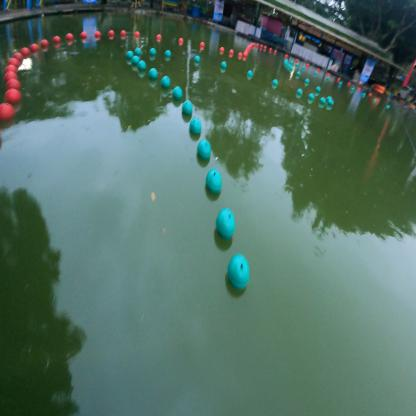green_buoy: (228, 256, 249, 291), (216, 208, 236, 242), (207, 171, 222, 196), (198, 140, 210, 161), (190, 118, 202, 135), (182, 99, 193, 115), (172, 84, 182, 98), (160, 76, 171, 88), (149, 66, 158, 78), (138, 60, 147, 69), (149, 47, 157, 56), (132, 55, 140, 63), (134, 47, 142, 54), (194, 54, 200, 63), (165, 49, 171, 57), (126, 51, 134, 57), (221, 61, 227, 68), (247, 69, 253, 76), (272, 78, 278, 85), (320, 96, 326, 103), (297, 88, 303, 94), (328, 99, 334, 105), (296, 70, 302, 75), (316, 86, 321, 92), (309, 93, 314, 99), (327, 95, 333, 100), (284, 60, 289, 64), (351, 87, 355, 92), (288, 64, 292, 68), (302, 65, 306, 69), (305, 78, 309, 82), (289, 67, 294, 70), (296, 63, 300, 66), (314, 71, 317, 75), (326, 77, 330, 80), (338, 82, 342, 85), (362, 93, 366, 96), (373, 99, 377, 102), (386, 105, 390, 108), (291, 60, 293, 63)
red_buoy: (0, 102, 15, 121), (3, 88, 22, 102), (5, 80, 21, 90), (6, 64, 18, 73), (4, 72, 17, 80), (22, 46, 29, 56), (66, 32, 74, 40), (9, 58, 19, 64), (80, 32, 88, 39), (30, 43, 38, 50), (40, 40, 49, 46), (15, 52, 22, 59), (53, 36, 61, 42), (95, 31, 101, 37), (120, 30, 127, 35), (156, 34, 162, 39), (108, 30, 113, 35), (134, 31, 140, 35), (179, 38, 184, 42), (200, 42, 205, 46), (243, 52, 247, 57), (220, 47, 224, 51), (238, 52, 242, 56), (229, 50, 234, 53), (253, 42, 256, 46), (256, 43, 259, 47), (264, 45, 267, 49), (247, 46, 251, 49), (246, 48, 250, 51), (245, 50, 248, 54), (306, 63, 309, 67), (369, 93, 373, 96), (285, 54, 288, 57), (317, 68, 320, 71), (327, 73, 330, 76), (249, 44, 251, 48), (338, 77, 340, 81), (348, 82, 350, 86), (251, 43, 253, 46), (260, 44, 262, 47), (274, 50, 277, 52), (296, 59, 298, 62), (358, 88, 361, 90), (270, 48, 272, 50)
